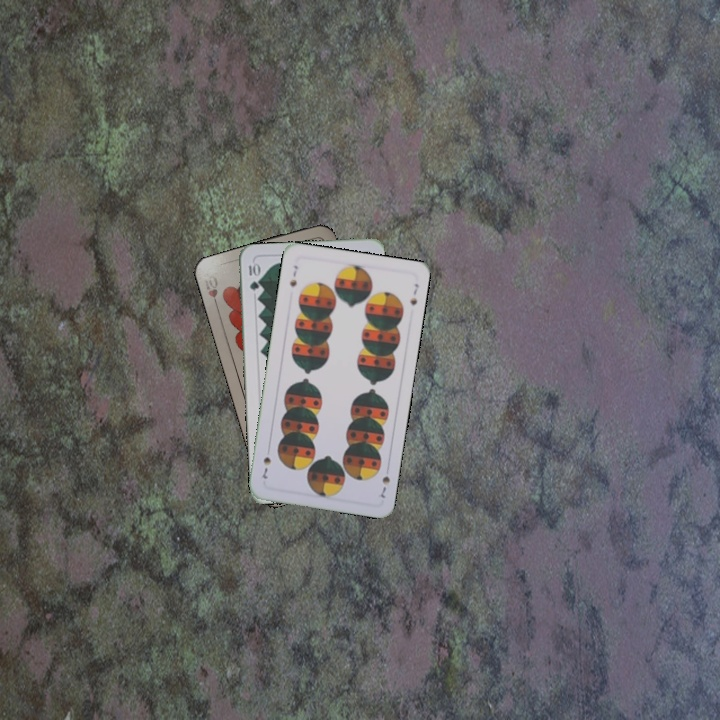G10: (245, 259, 261, 293)
H10: (198, 271, 221, 311)
S7: (376, 472, 393, 501), (285, 261, 300, 289)
